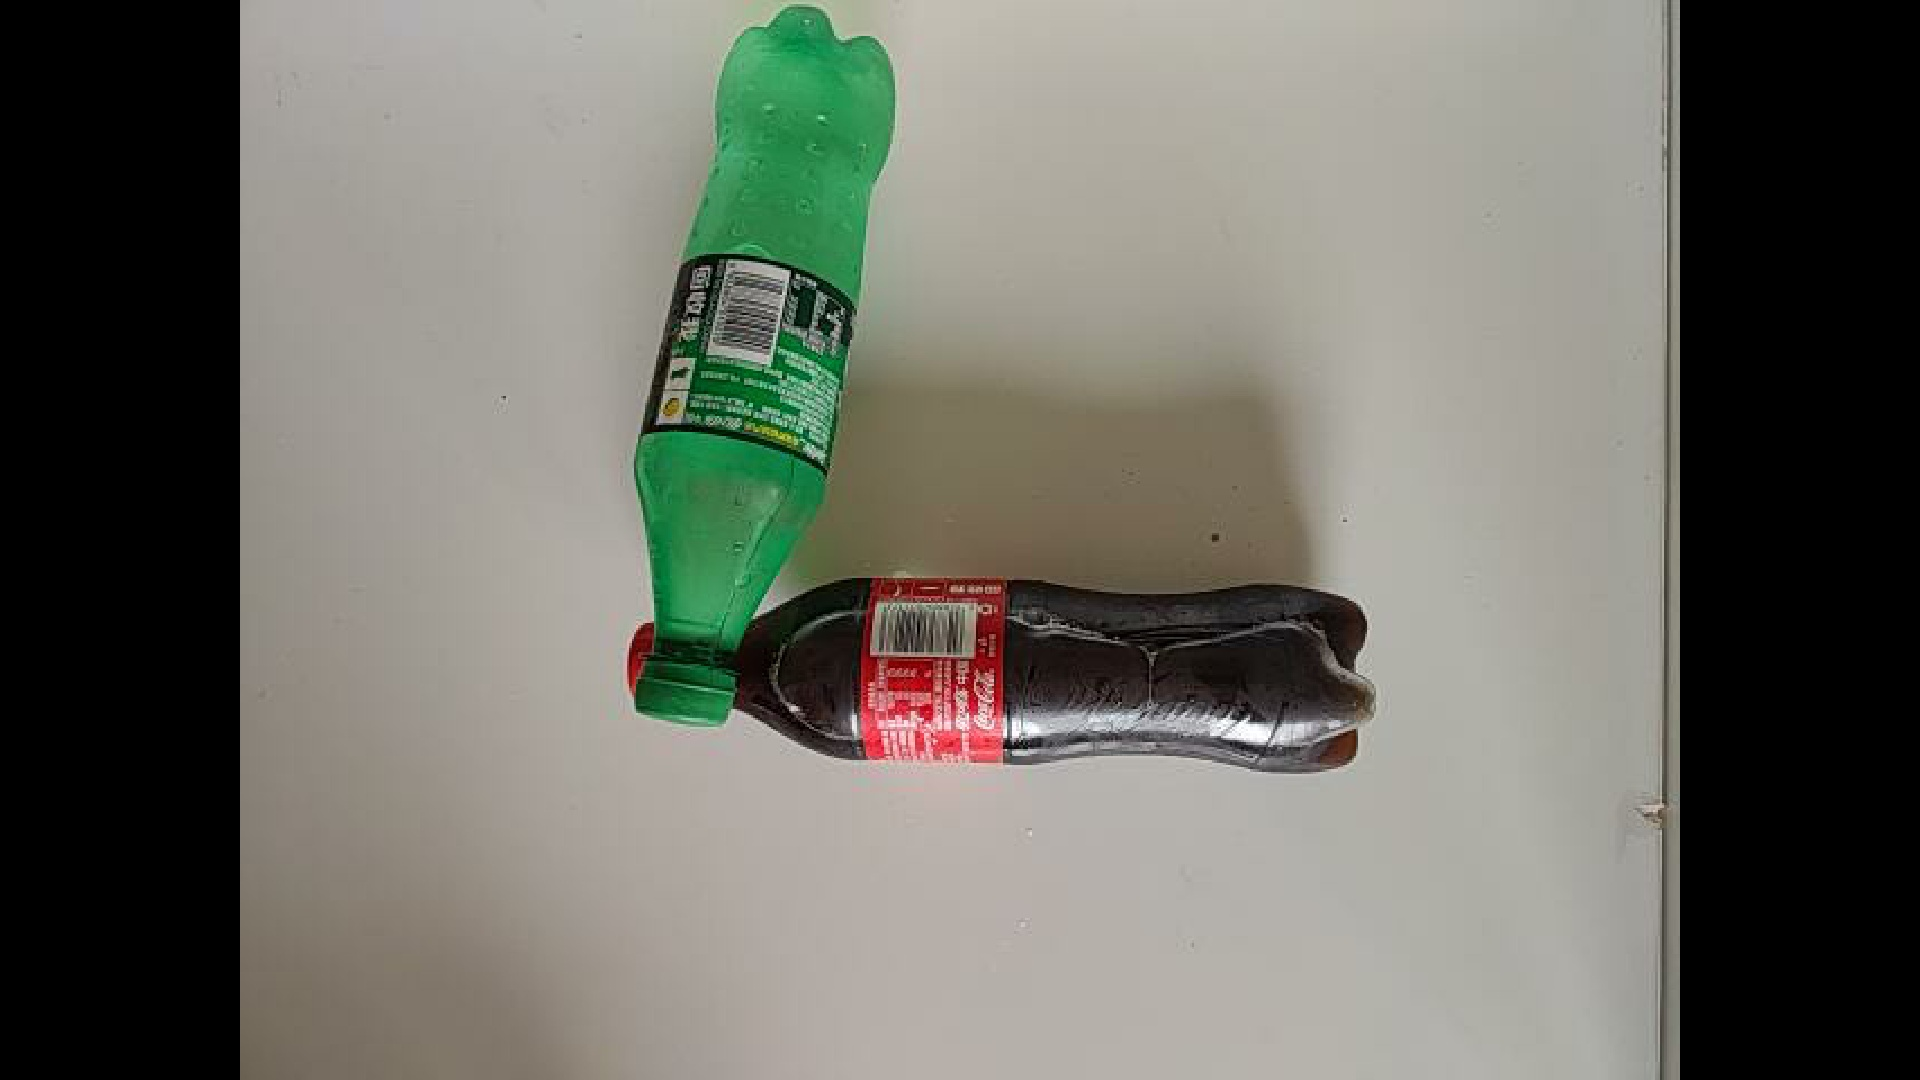cola: (620, 568, 1375, 773)
sprite: (630, 0, 898, 731)
